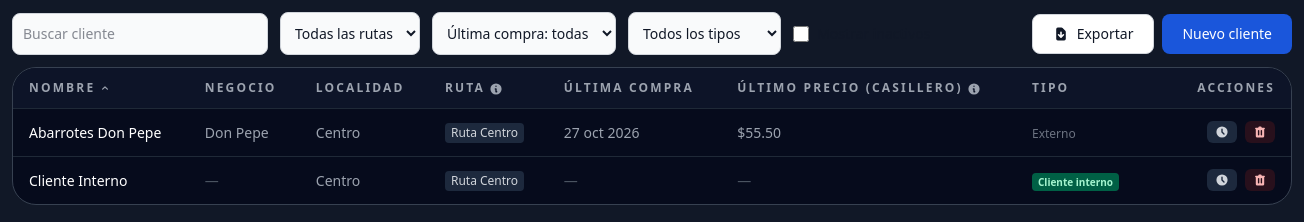
Test case: ClientsTab › filtra por tipo de cliente
This screenshot has width=1304, height=222.
Select "Clientes internos" in the 3rd dropdown named "Tipo de cliente": (704, 34) [628, 12, 781, 55]
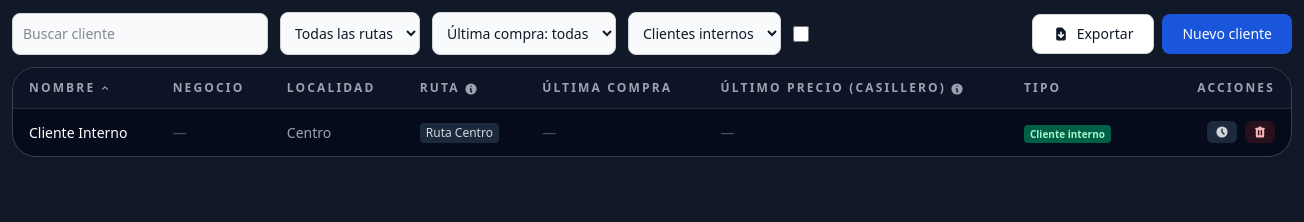
Expected: the text "Cliente Interno" is shown, [29, 122, 128, 142]
Now the text "Abarrotes Don Pepe" is gone
